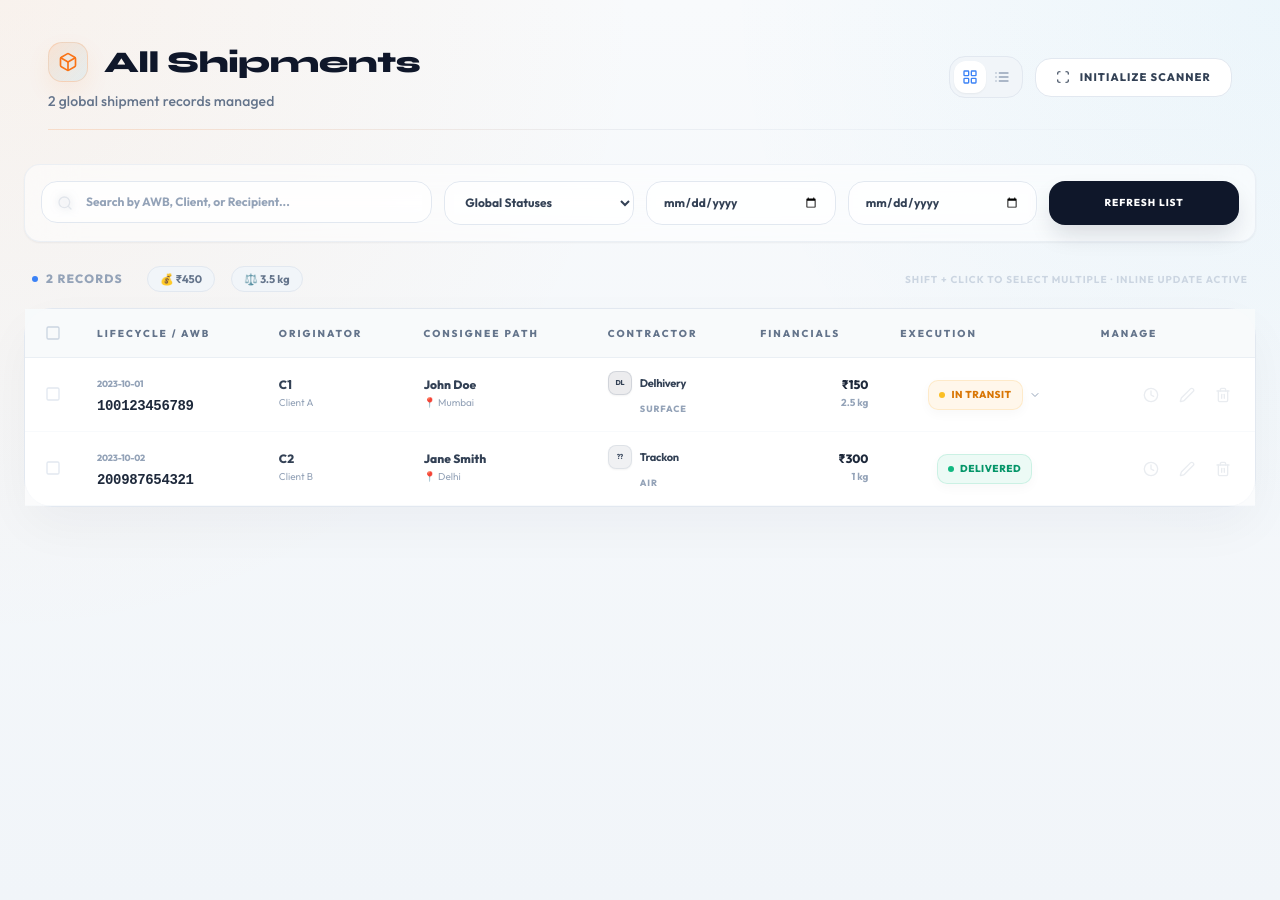
Scenario: AllShipmentsPage › shows bulk actions when shipments are selected
The image size is (1280, 900).
Check: the text "100123456789" is shown, box [97,398,194,414]
Check: the text "Set Progress Status" is not shown
// Check header
Click the button without text next to "Lifecycle / AWB": (53, 333) [41,321,65,345]
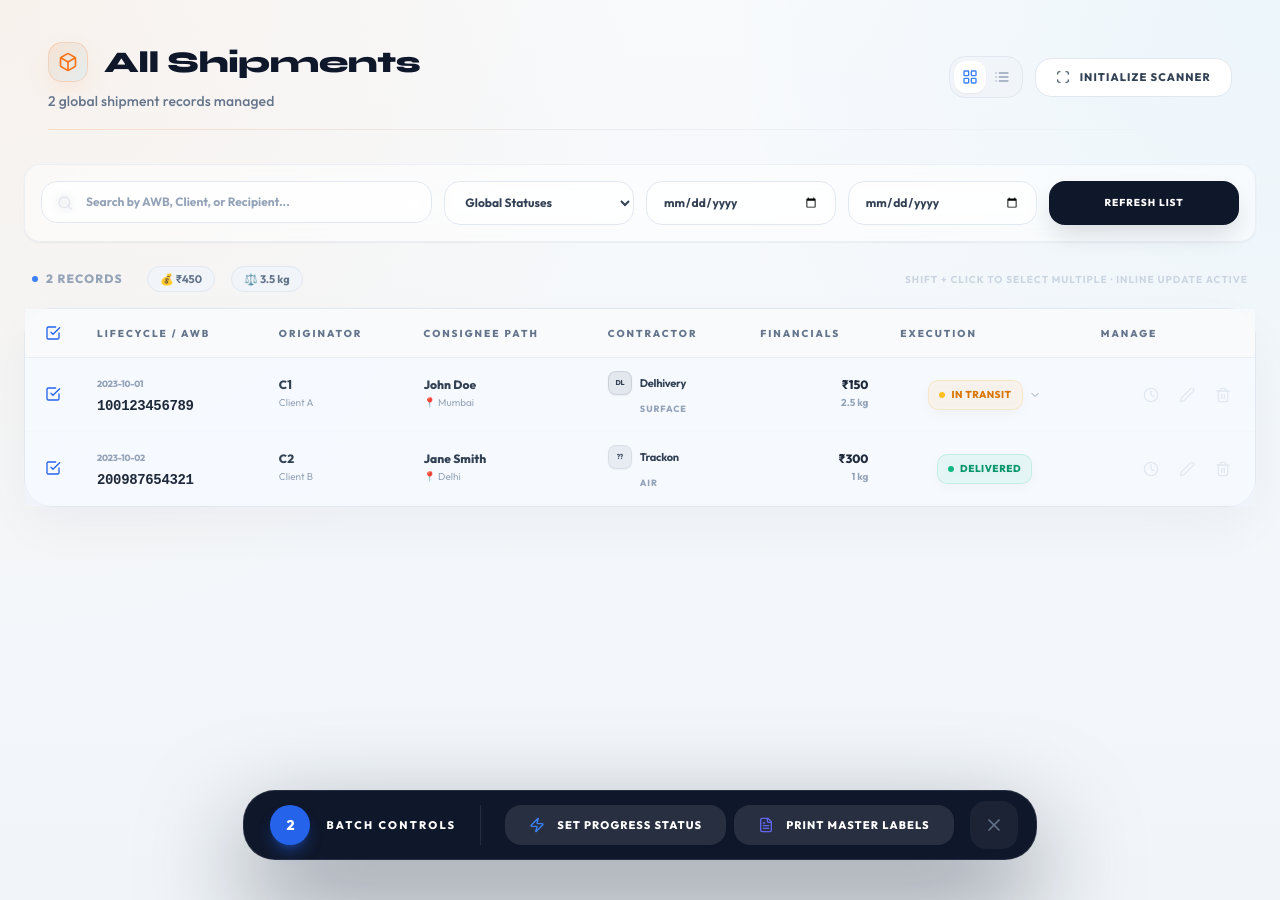
Check: the button "Set Progress Status" is shown, box [505,805,726,845]
